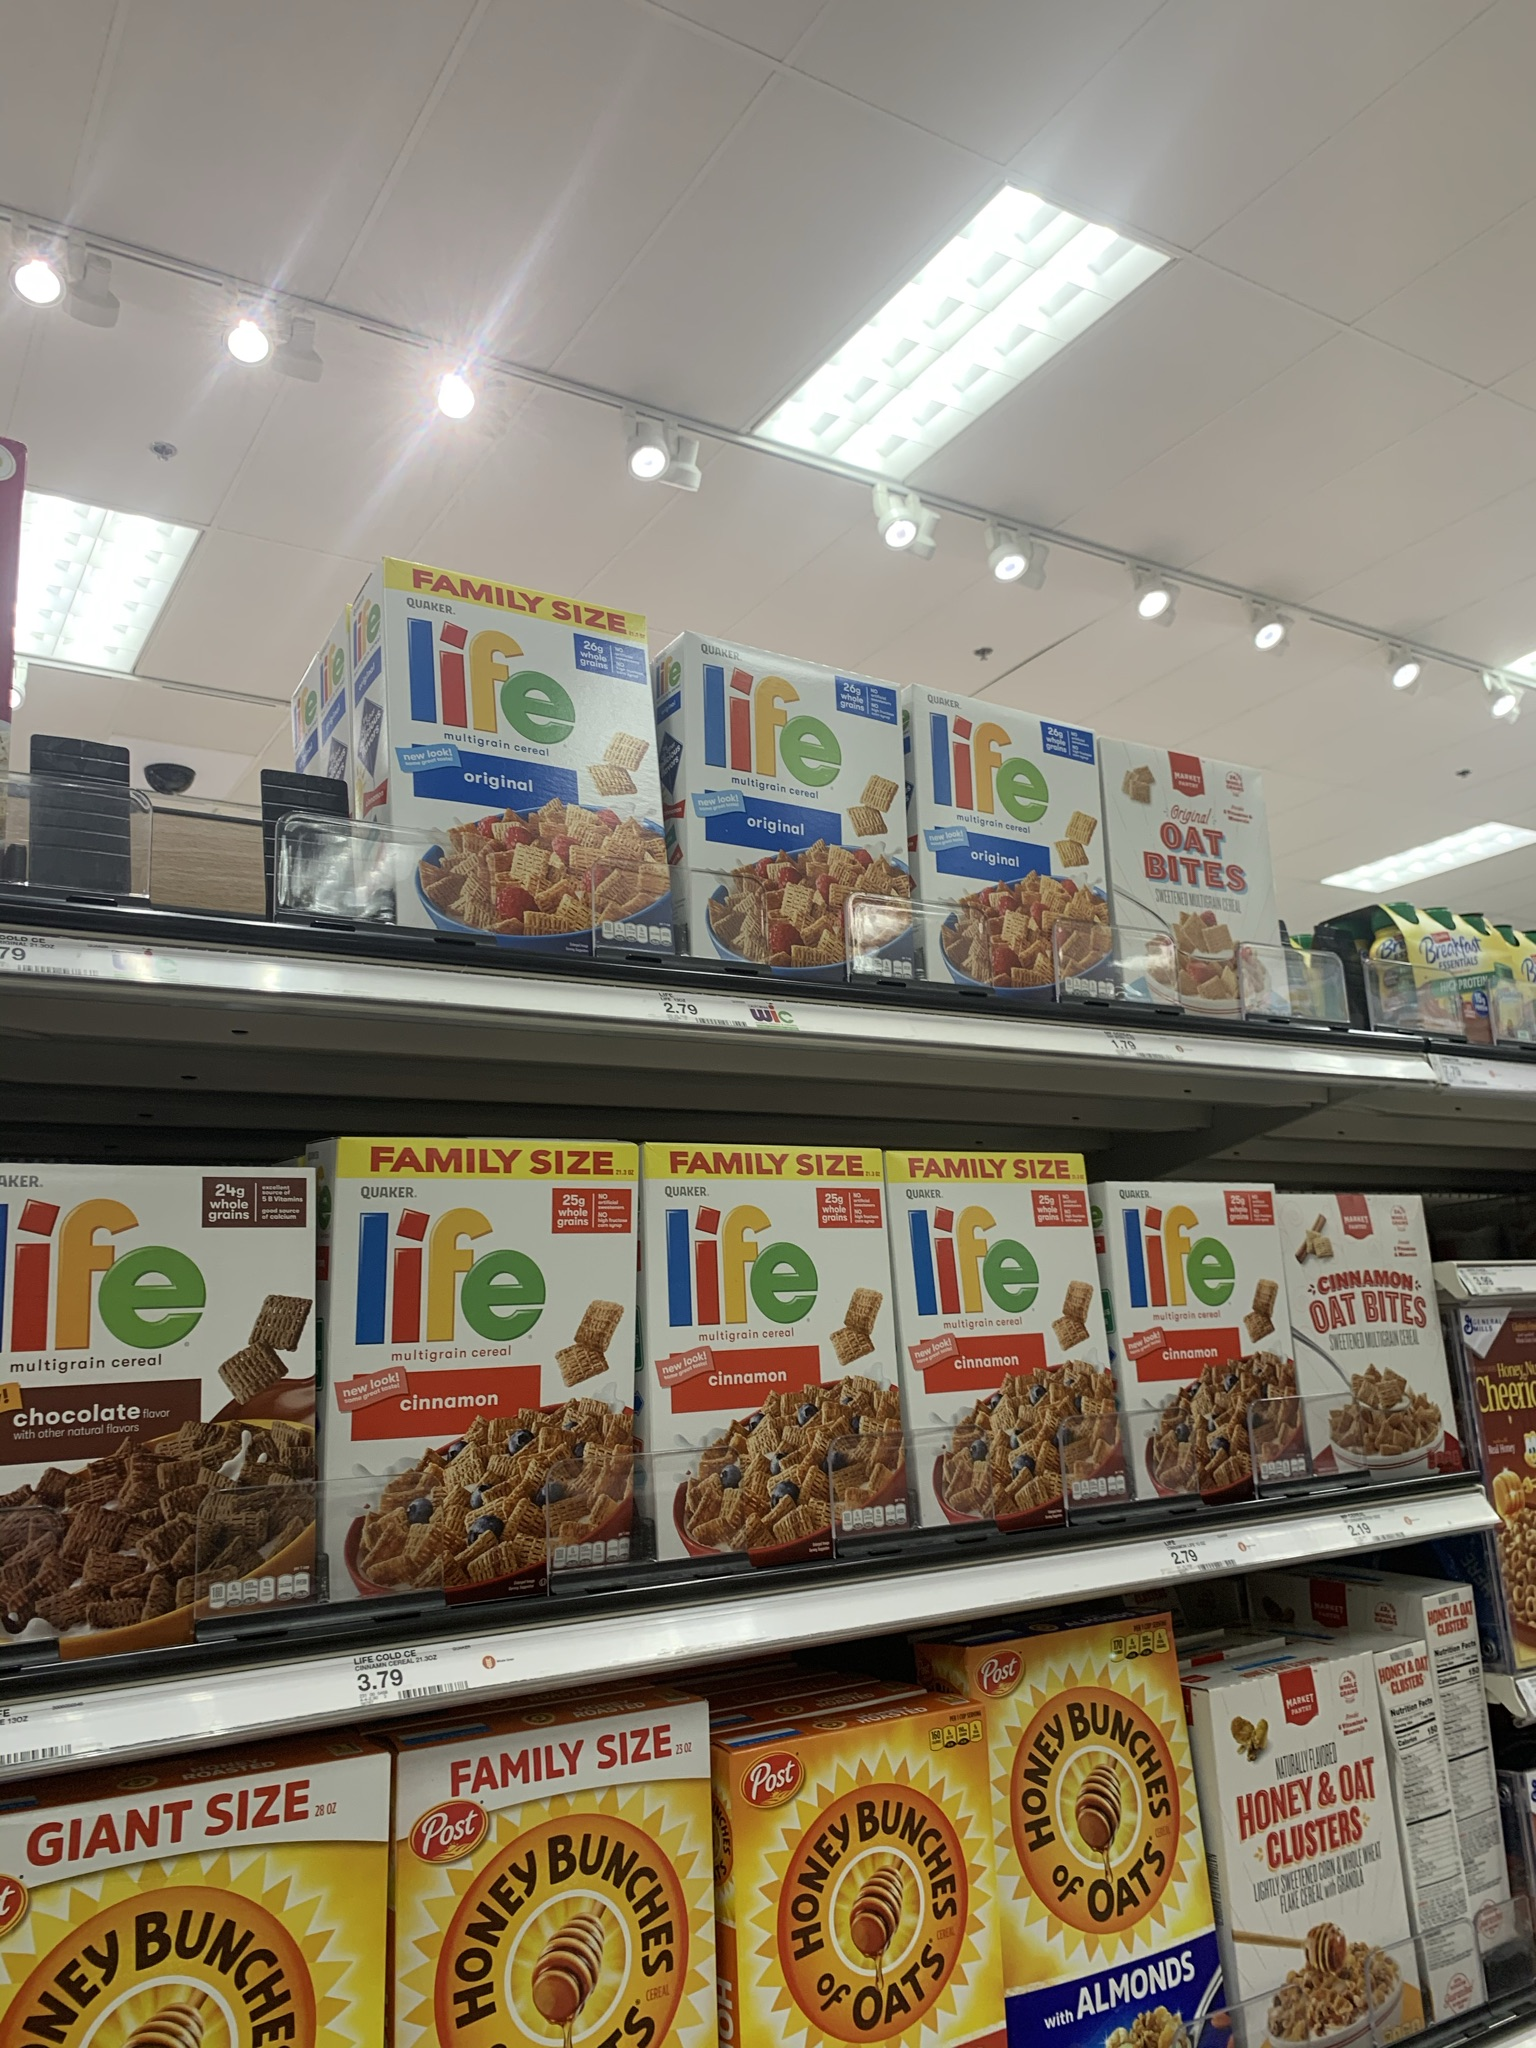Cereal cinnamon toast crunch: (1304, 1197, 1467, 1514)
Cereal honey comb: (408, 1750, 724, 2048), (987, 1659, 1225, 2048), (733, 1750, 992, 2048), (19, 1829, 360, 2048)
Cereal honey oats: (1252, 1692, 1417, 2048)
Cereal life: (6, 1180, 323, 1609), (394, 566, 689, 969), (357, 1138, 628, 1561), (671, 1156, 894, 1564), (699, 639, 928, 974), (907, 1159, 1107, 1493), (944, 701, 1112, 998), (1125, 1193, 1284, 1496)
